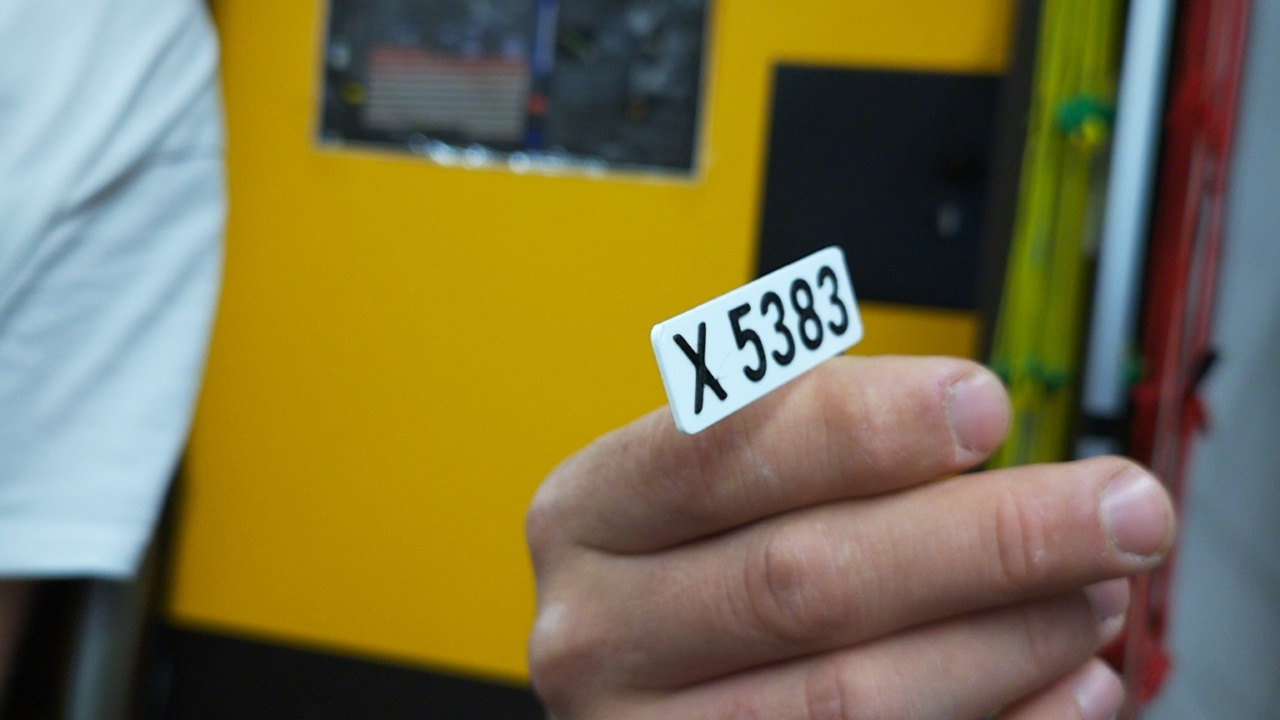license_plate: (647, 242, 868, 439)
